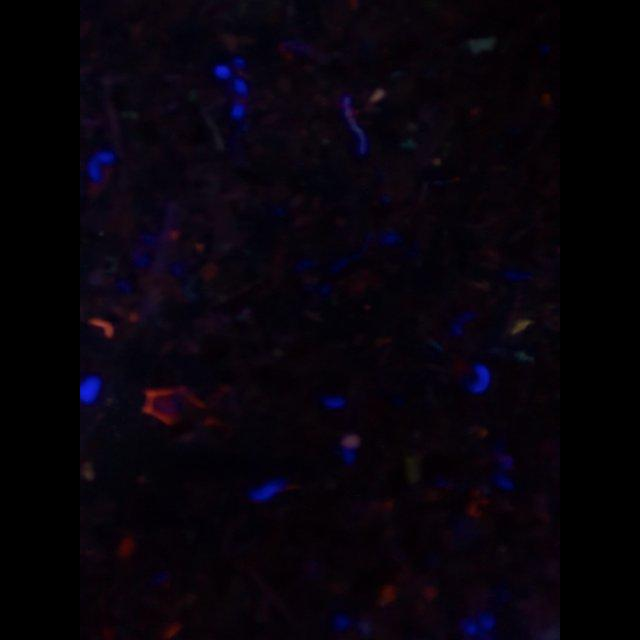Fibre: (468, 36, 498, 58)
